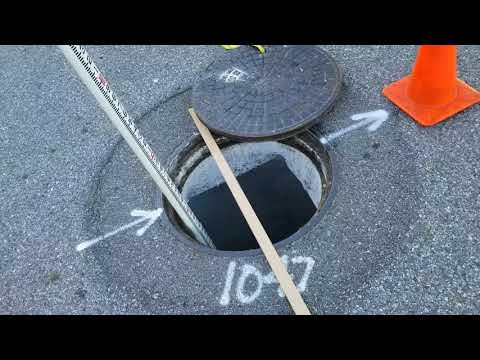Open_manhole: (109, 64, 363, 269)
Road_cone: (384, 44, 470, 129)
